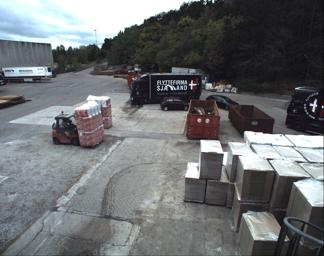rockwool_batts: (76, 103, 103, 145), (86, 91, 110, 125)
